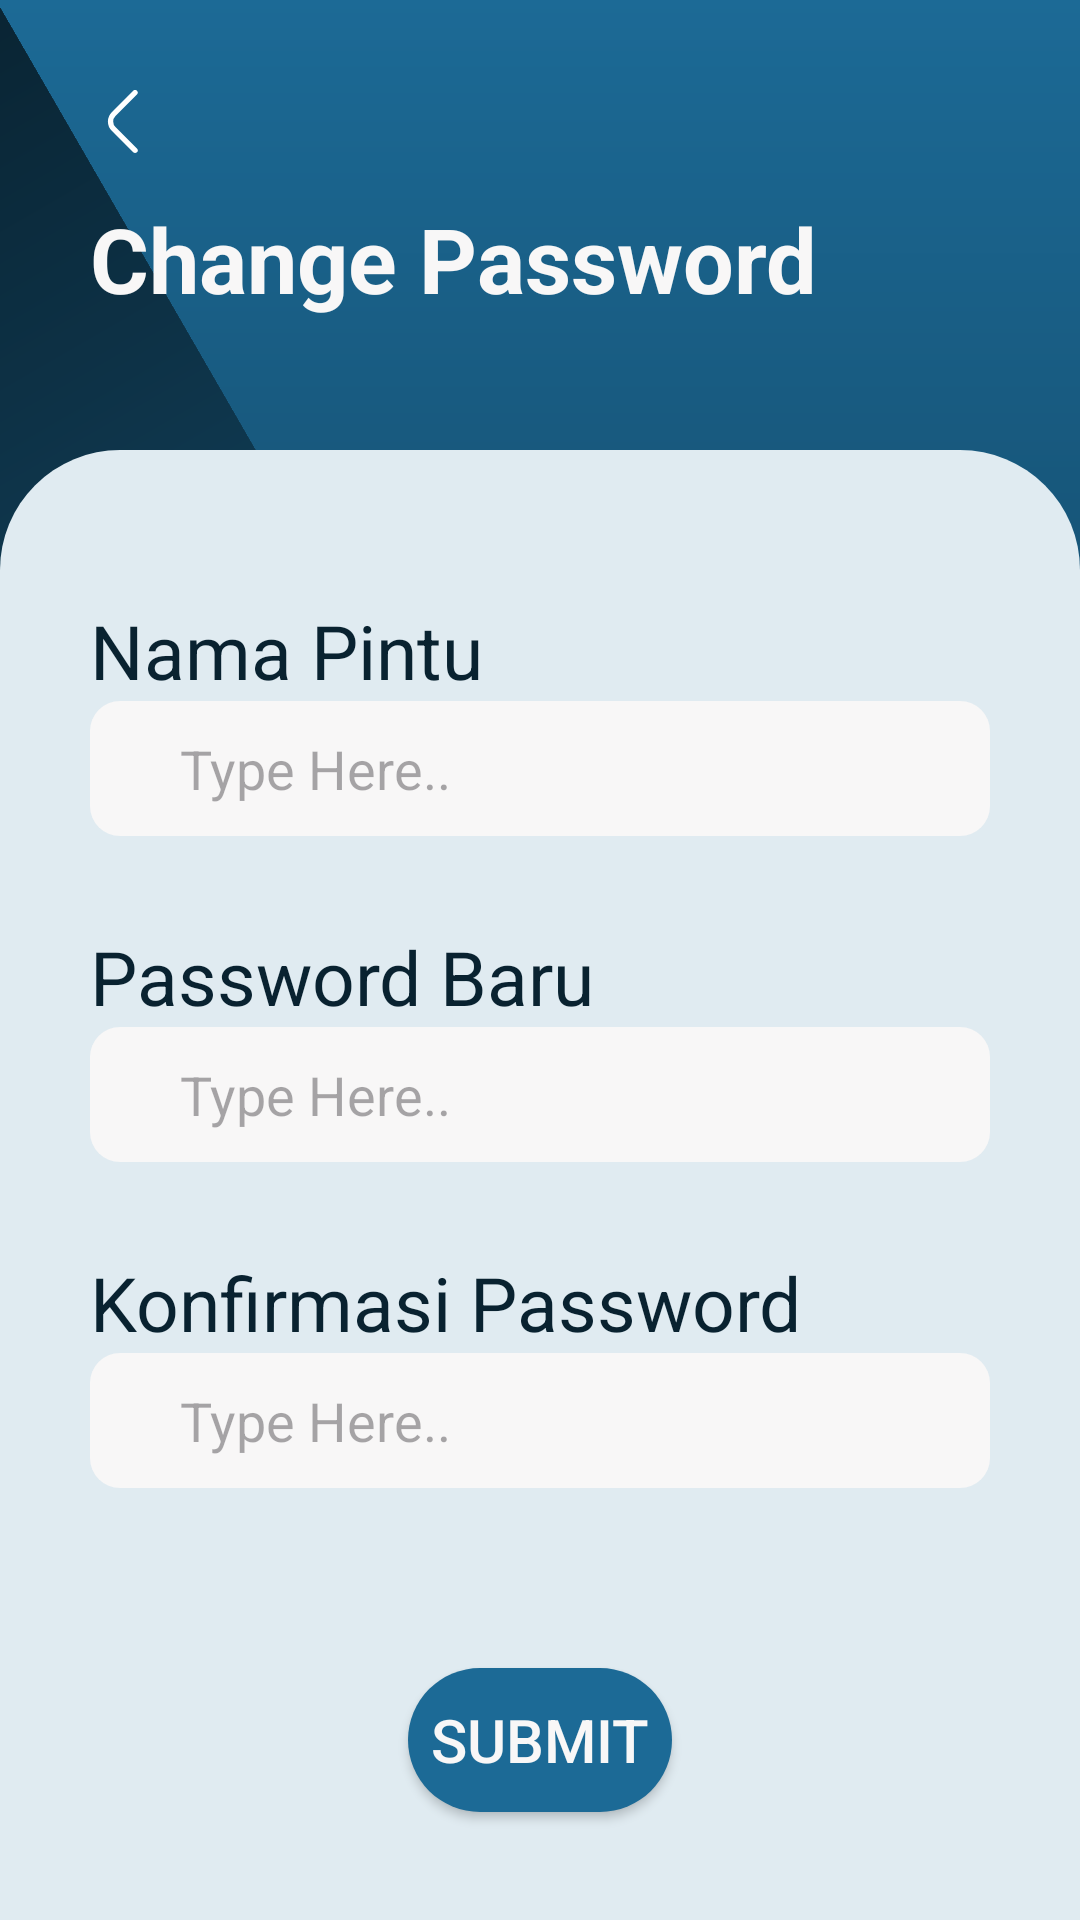

Named icons in this screenshot (1080 x 1920) and their bounding boxes, (x1,y1,x2,y2):
back: (108,90,138,153)
